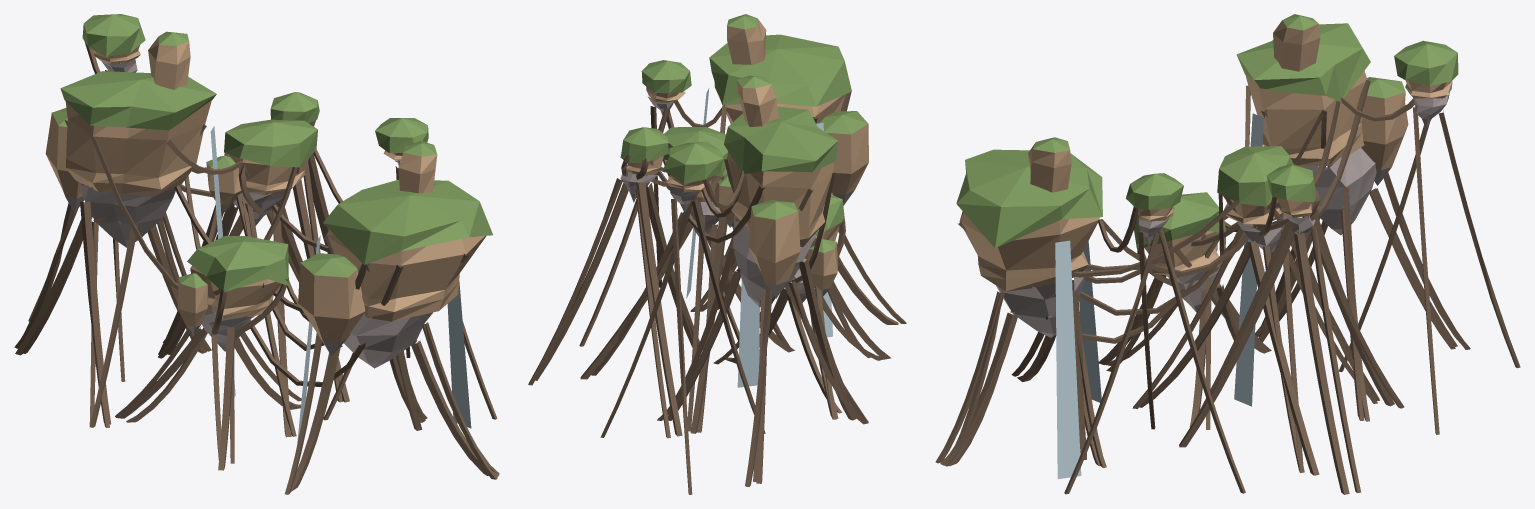
Rendered from detail.glb.
3 views of the same model, side by side, from view 1: azimuth 30°, elevation 25°; view 2: azimuth 150°, elevation 25°; view 3: azimuth 270°, elevation 25° (orthographic). The views are drawn at different scales.
Parts seen in each view (by area): view 1: floating-mountains-of-pandora-walt-disney-world; view 2: floating-mountains-of-pandora-walt-disney-world; view 3: floating-mountains-of-pandora-walt-disney-world.
Part boxes in pixels (x1=…): floating-mountains-of-pandora-walt-disney-world: x1=14, y1=14, x2=499, y2=494; floating-mountains-of-pandora-walt-disney-world: x1=528, y1=14, x2=906, y2=494; floating-mountains-of-pandora-walt-disney-world: x1=935, y1=14, x2=1520, y2=494.
Bounding box in the file's own units: 43.8 × 47.1 × 67.43.
